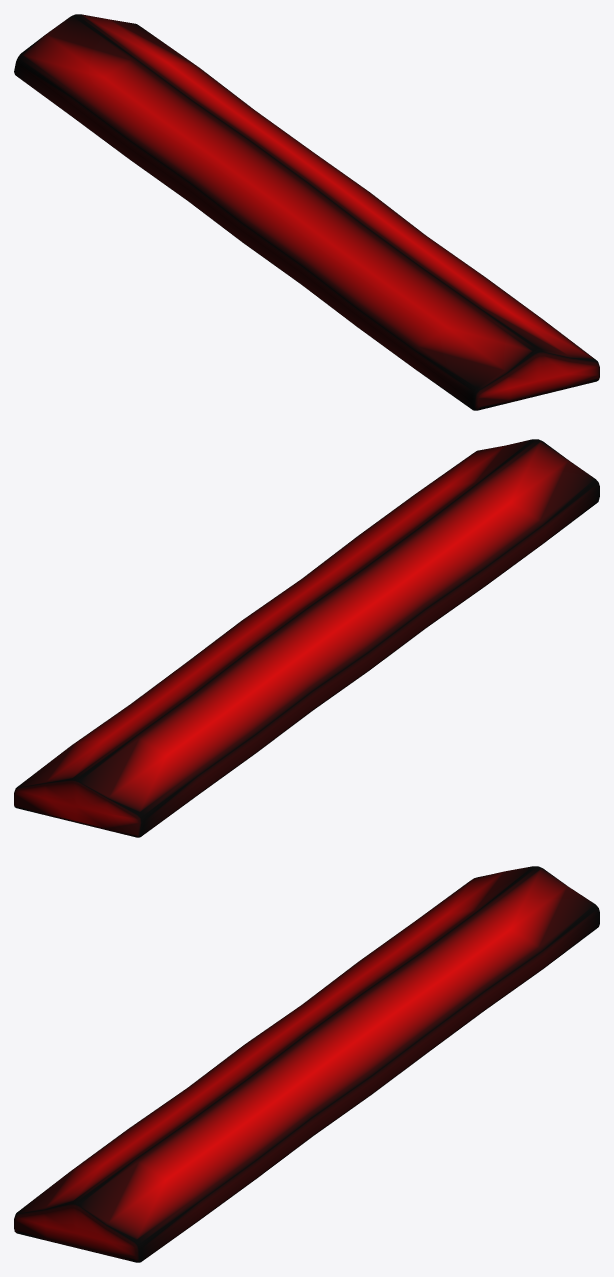
File: fence_frame_2.fbx
3 views of the same model, one above another, from view 1: azimuth 30°, elevation 25°; view 2: azimuth 150°, elevation 25°; view 3: azimuth 330°, elevation 25° (orthographic).
Visible parts, largest first — view 1: fence_frame_2; view 2: fence_frame_2; view 3: fence_frame_2.
Boxes of the visible parts, x1=… form: fence_frame_2: x1=14, y1=14, x2=599, y2=410; fence_frame_2: x1=14, y1=439, x2=599, y2=837; fence_frame_2: x1=14, y1=866, x2=599, y2=1262.
Size of the model in its own units: 0.3318 by 0.1144 by 2.03.
